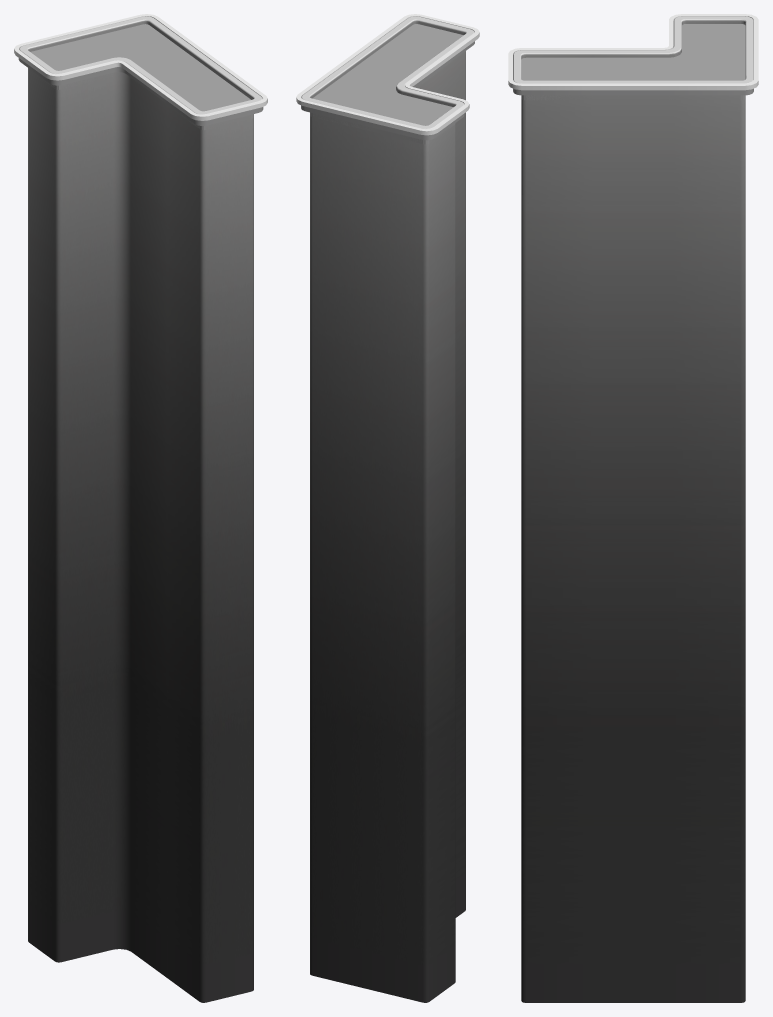
Rendered from BLOCK_3D_L2.fbx.
The picture shows the model from 3 angles, left to right: view 1: azimuth 30°, elevation 25°; view 2: azimuth 150°, elevation 25°; view 3: azimuth 270°, elevation 25°; orthographic projection. The views are drawn at different scales.
Visible parts, largest first — view 1: L_4_002, L_4_002.001, OUTLINE; view 2: L_4_002, L_4_002.001, OUTLINE; view 3: L_4_002, L_4_002.001, OUTLINE.
Part boxes in pixels (left/top/right/bottom): L_4_002: left=18, top=16, right=263, bottom=1002; L_4_002.001: left=28, top=24, right=253, bottom=130; OUTLINE: left=14, top=14, right=267, bottom=120; L_4_002: left=301, top=16, right=474, bottom=1002; L_4_002.001: left=310, top=24, right=465, bottom=144; OUTLINE: left=296, top=14, right=479, bottom=135; L_4_002: left=513, top=16, right=753, bottom=1002; L_4_002.001: left=521, top=24, right=745, bottom=100; OUTLINE: left=508, top=14, right=758, bottom=90.
Bounding box in the file's own units: 212 × 1268 × 312.
